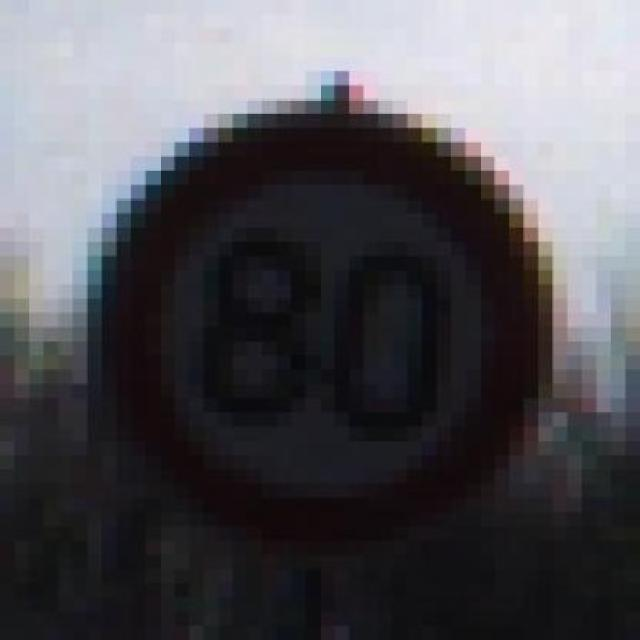forb_speed_over_80: (102, 110, 549, 552)
